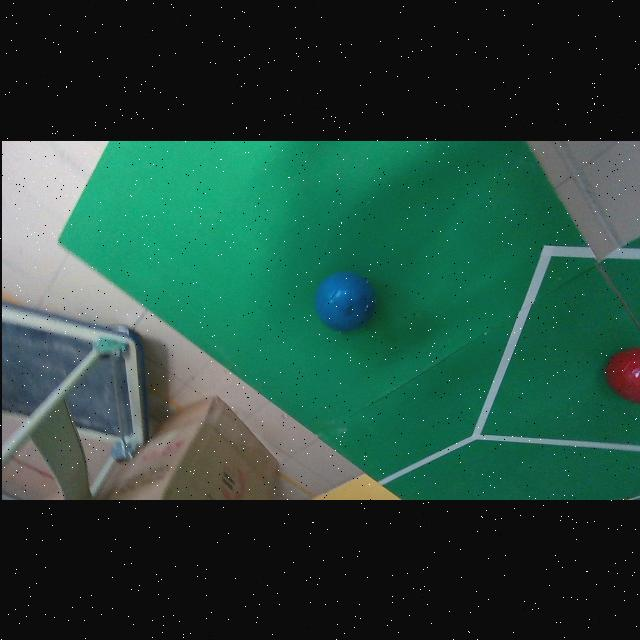B: (313, 272, 374, 332)
R: (605, 348, 640, 403)
